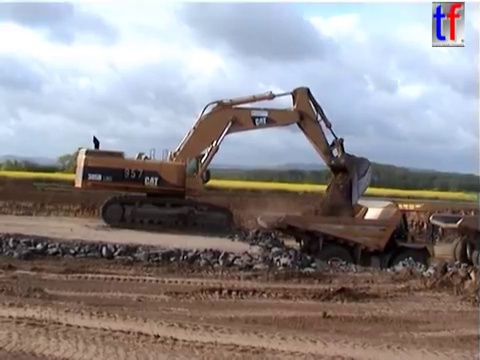excavator: (71, 83, 375, 236)
truck: (253, 200, 434, 293), (426, 211, 480, 278)
